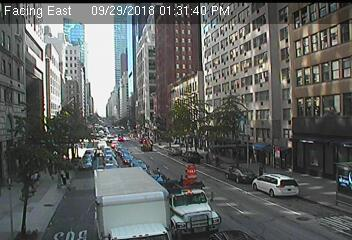car: (93, 168, 169, 240), (144, 179, 221, 235), (250, 174, 298, 197), (225, 167, 253, 184), (129, 159, 150, 174), (182, 151, 200, 164), (103, 163, 119, 174), (139, 141, 153, 153), (121, 154, 137, 164), (78, 160, 92, 171), (102, 154, 116, 164), (168, 147, 181, 156), (81, 154, 91, 163)
